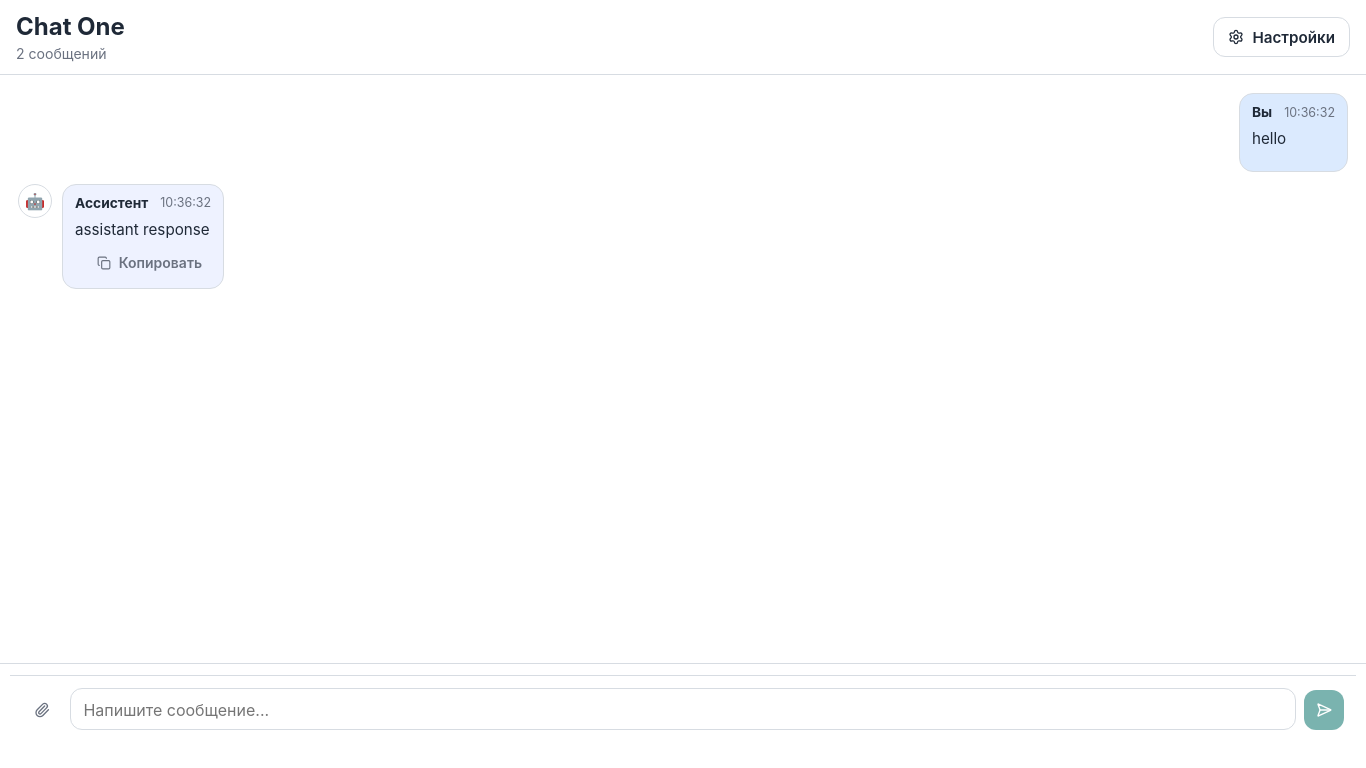
Scenario: ChatWindow › falls back to REST when stream fails before first chunk
Type "hello" into the text box with placeholder "Напишите сообщение...".
click(683, 709); type("hello")  # box [70, 688, 1296, 730]
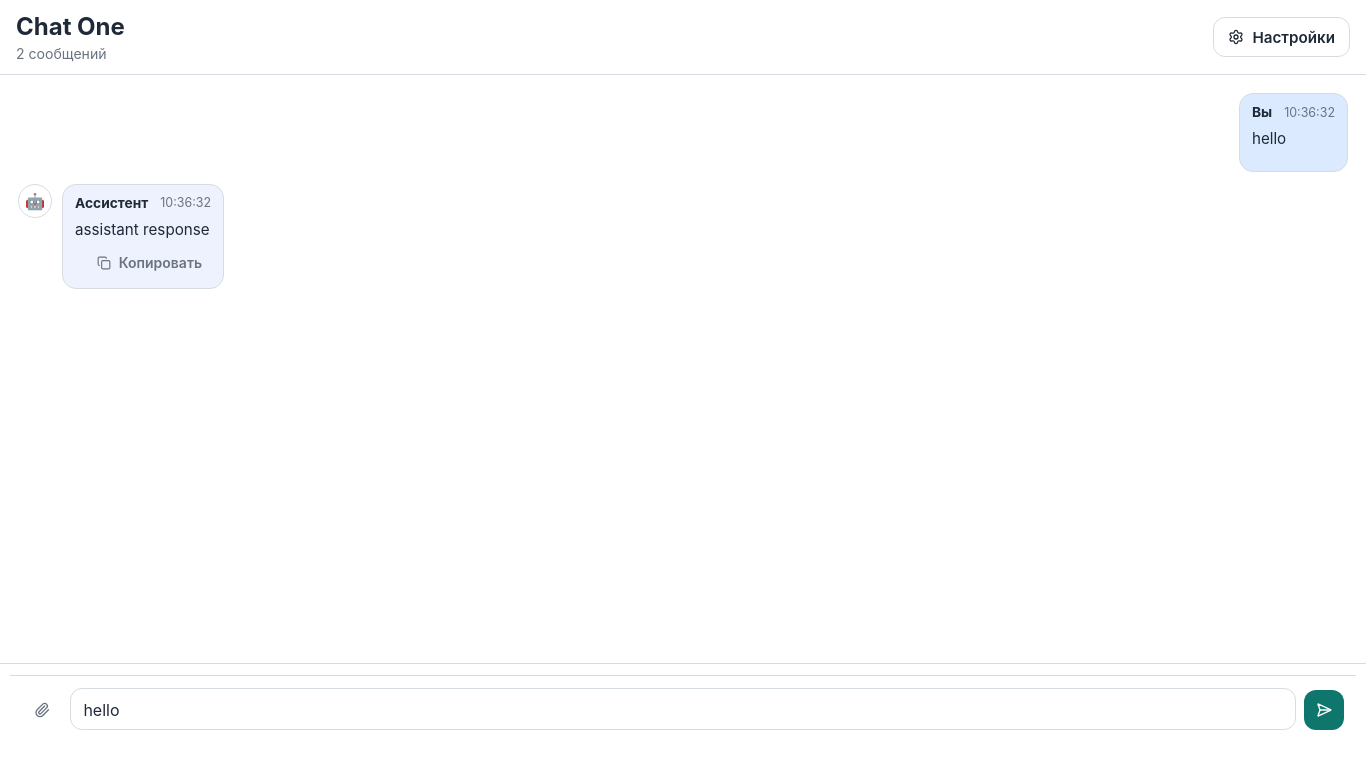
Submit the form with placeholder "Напишите сообщение...", box [10, 675, 1356, 758]
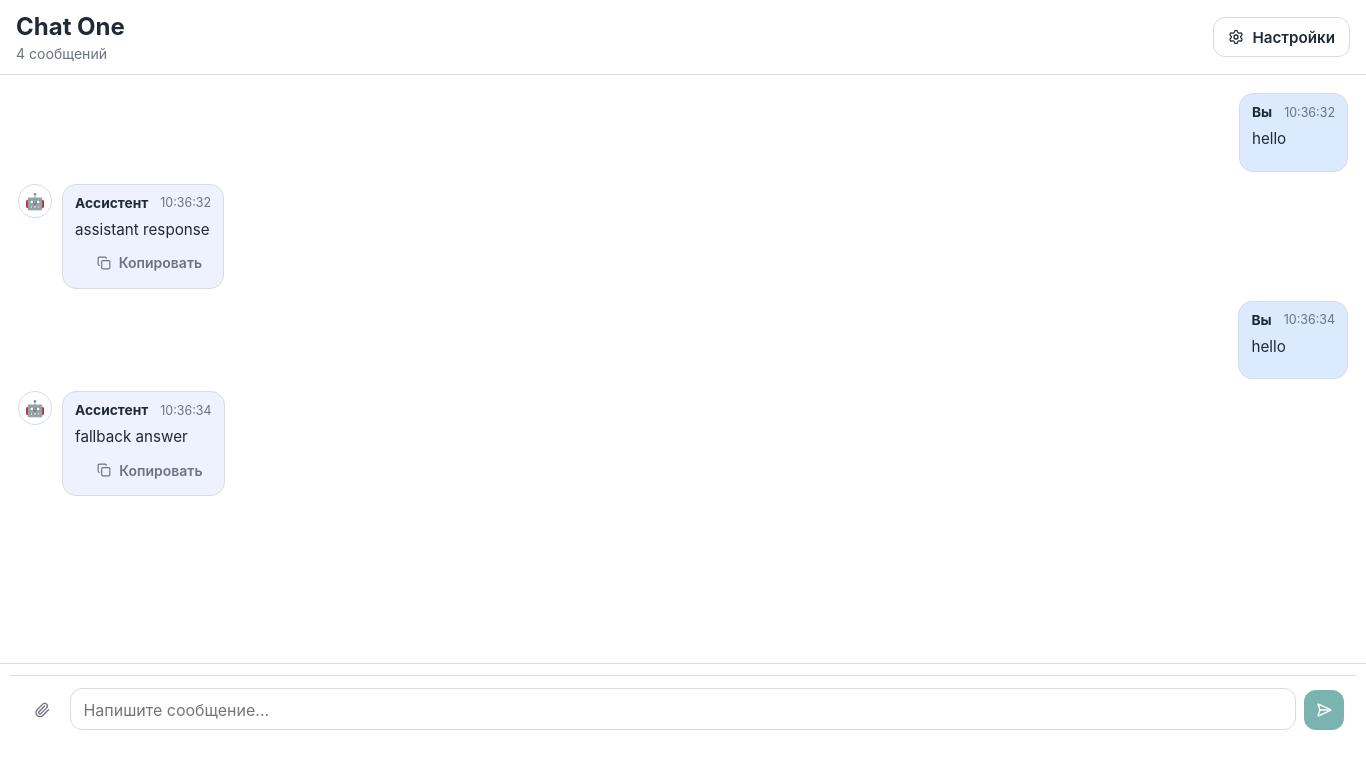
Expected: the text "fallback answer" is shown, [75, 427, 188, 446]
